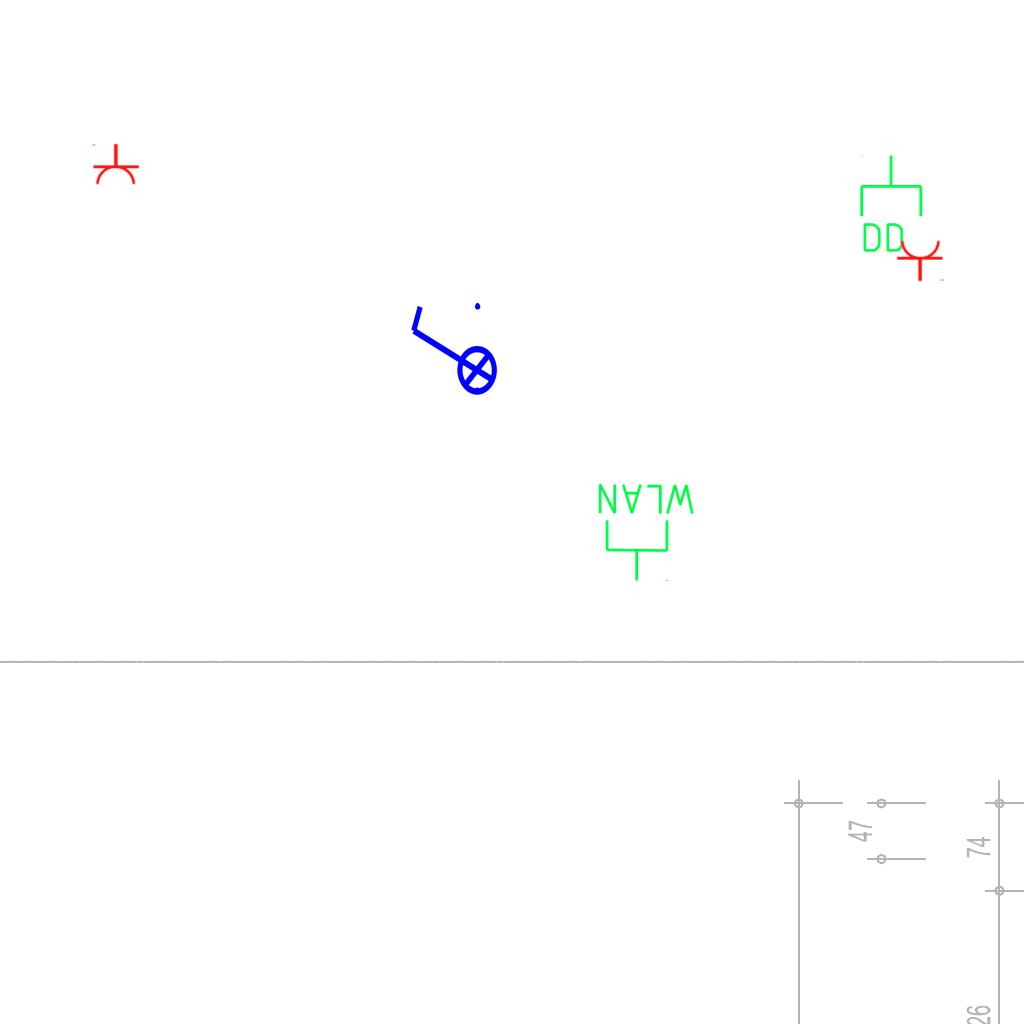Ausschalter_beleuchtet: (403, 297, 499, 409)
Datenanschluss_zweifach: (856, 153, 925, 256)
Schukosteckdose_einfach: (90, 143, 140, 186), (896, 239, 946, 282)
WLAN: (594, 480, 699, 584)
